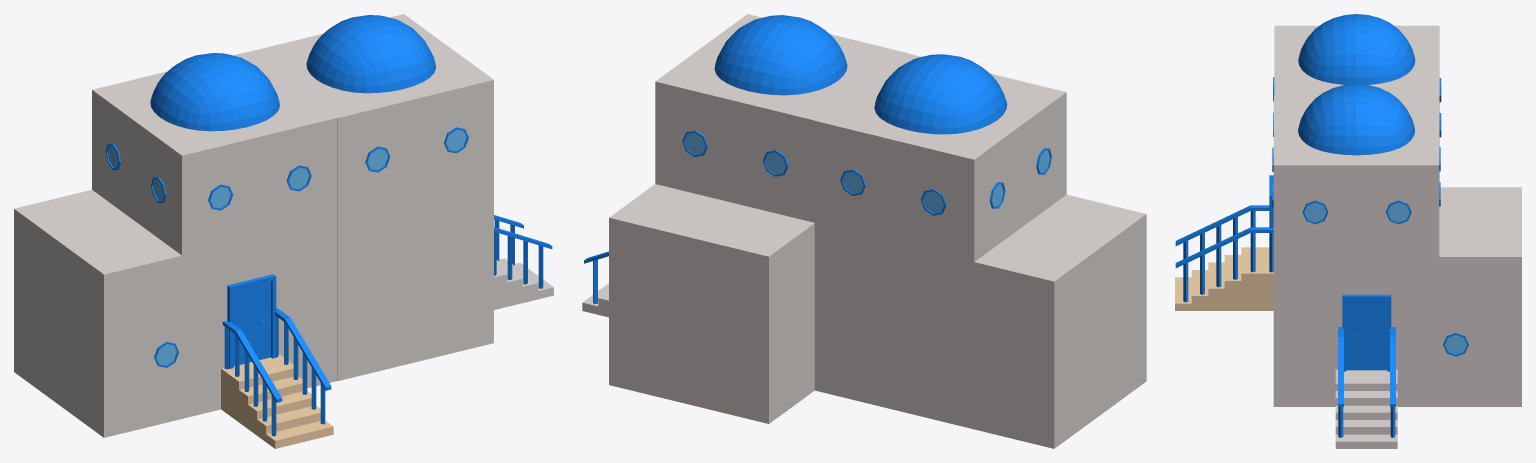
File: casa2.fbx
3 renders of one model, left to right at view 1: azimuth 30°, elevation 25°; view 2: azimuth 150°, elevation 25°; view 3: azimuth 270°, elevation 25°, orthographic. The views are drawn at different scales.
Parts seen in each view (by area): view 1: secondo piano; view 2: secondo piano; view 3: secondo piano.
Part boxes in pixels (x1,y1,x2,y2): secondo piano: (14,14,553,448); secondo piano: (582,14,1146,448); secondo piano: (1175,14,1521,448).
Bounding box in the file's own units: 620 × 376 × 419.
